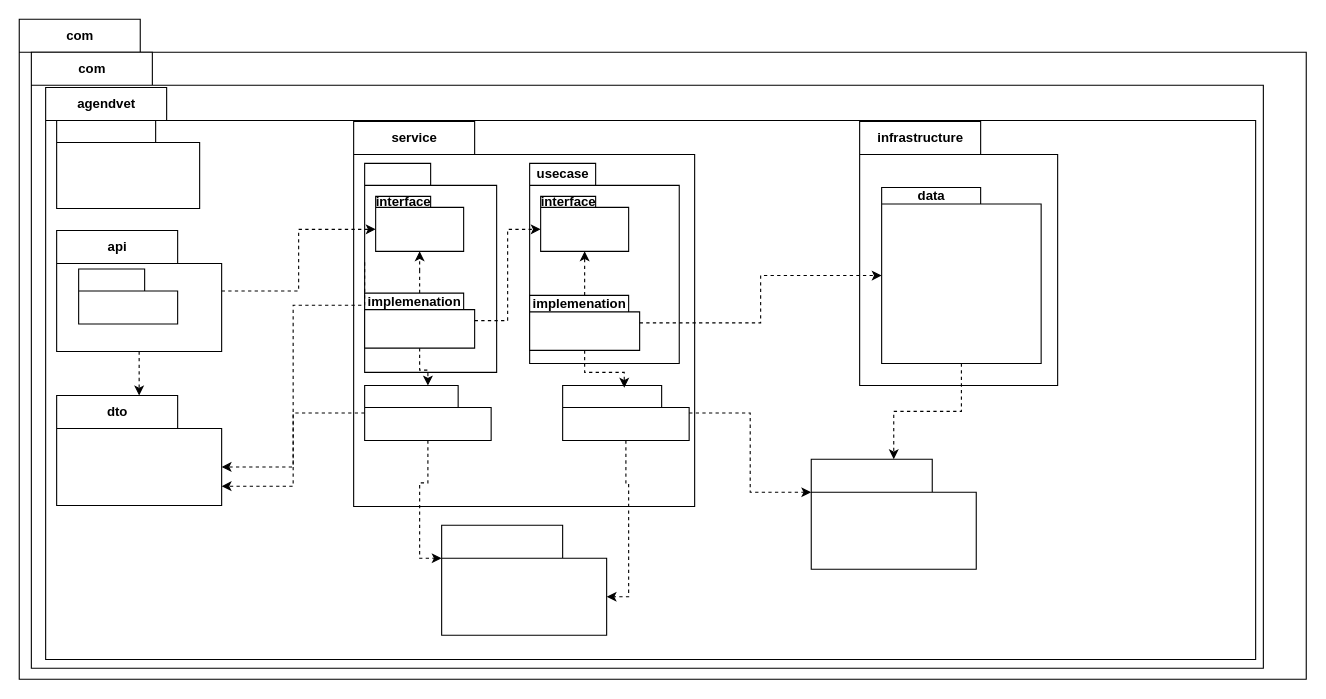
This 1326x699 diagram has some shape labels left out. Each missing label, with the box of its shape:
controller: (78, 268, 178, 324)
domain: (441, 524, 607, 635)
dtoassembler: (364, 384, 491, 441)
entitiy: (810, 458, 976, 569)
entityassembler: (562, 384, 689, 441)
facade: (364, 162, 497, 372)
init: (56, 119, 200, 208)
